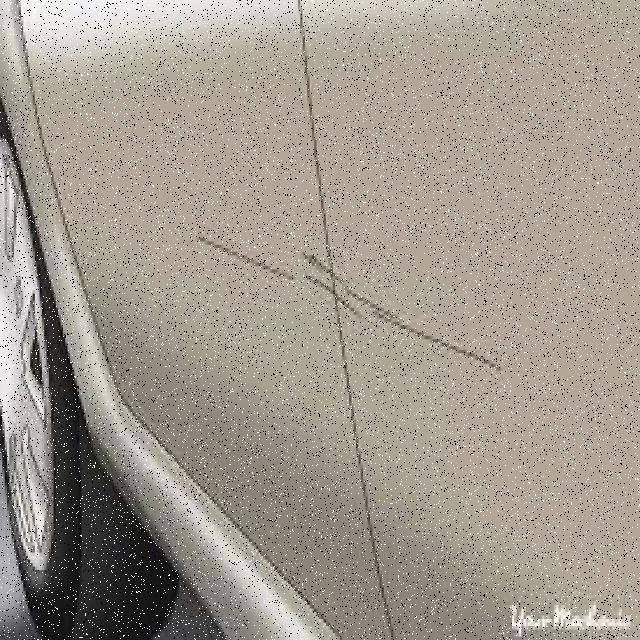doorouter-dent: (305, 0, 638, 605), (37, 0, 307, 591)
